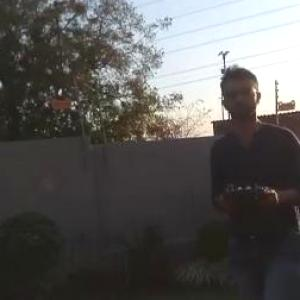follow: (205, 58, 299, 299)
